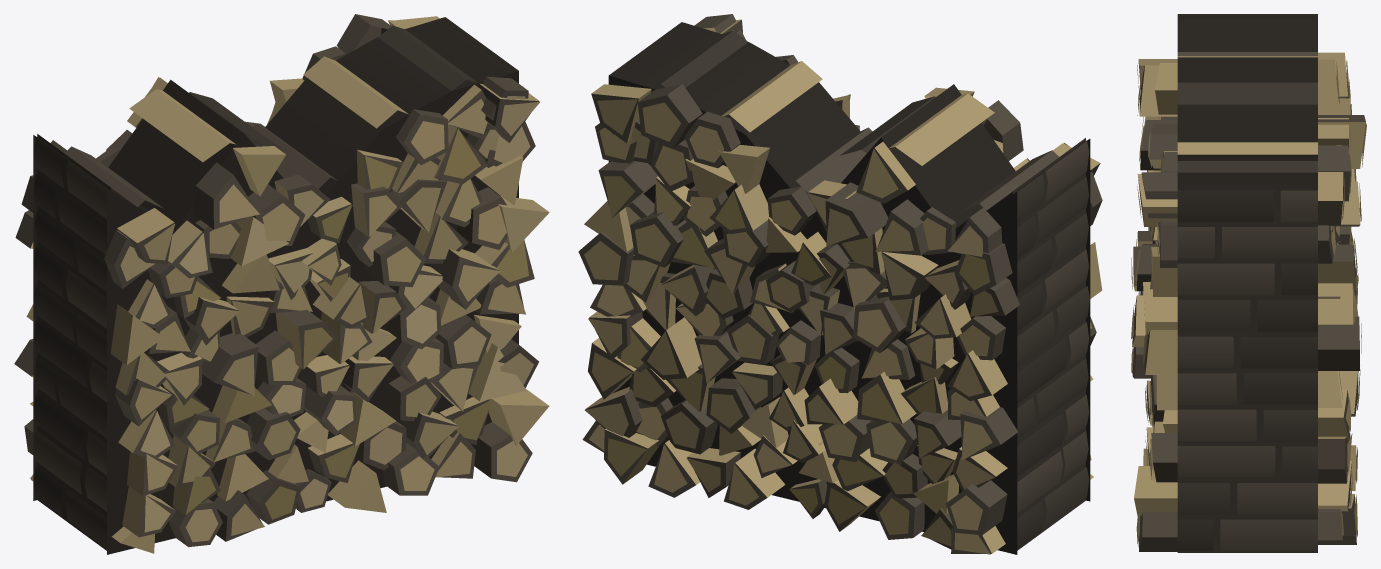
File: cordwood_c.glb
3 views of the same model, side by side, from view 1: azimuth 30°, elevation 25°; view 2: azimuth 150°, elevation 25°; view 3: azimuth 270°, elevation 25° (orthographic). The views are drawn at different scales.
Parts seen in each view (by area): view 1: Cordwood; view 2: Cordwood; view 3: Cordwood.
Boxes of the visible parts, bbox=[...] form: Cordwood: bbox=[14, 14, 549, 554]; Cordwood: bbox=[578, 14, 1102, 554]; Cordwood: bbox=[1131, 14, 1366, 552].
Size of the model in its own units: 2 by 1.8 by 1.
